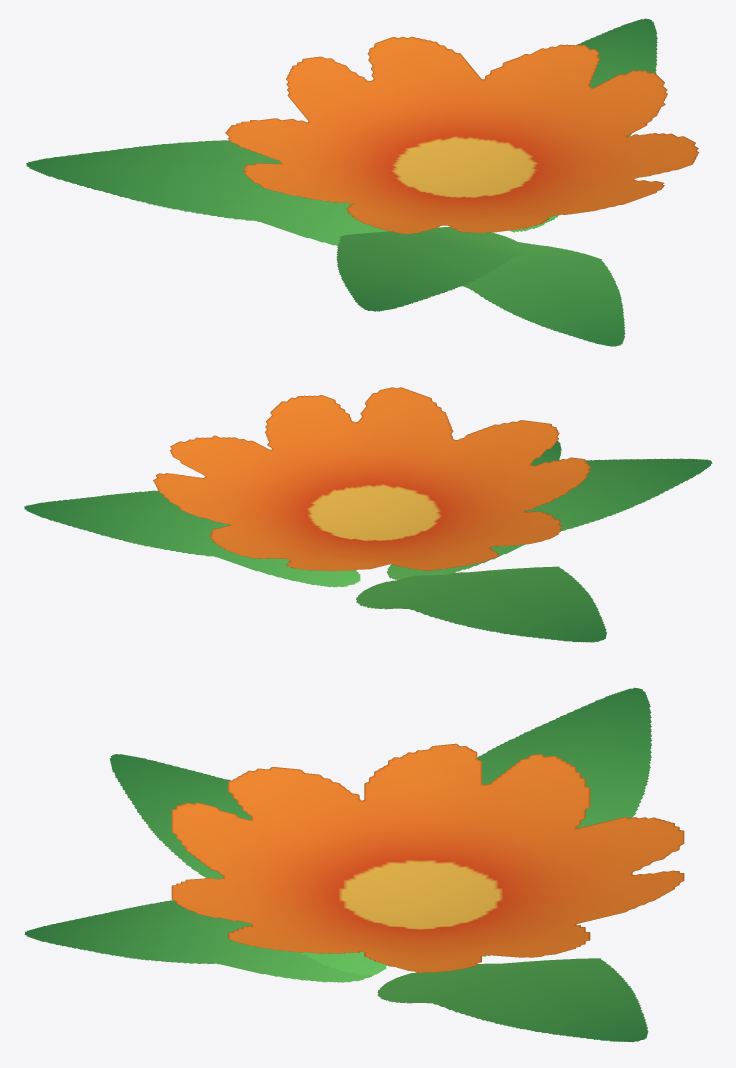
Rendered from orange_flower.glb.
The picture shows the model from 3 angles, top to bottom: view 1: azimuth 30°, elevation 25°; view 2: azimuth 150°, elevation 25°; view 3: azimuth 270°, elevation 25°; orthographic projection. The views are drawn at different scales.
Parts seen in each view (by area): view 1: orange_flower; view 2: orange_flower; view 3: orange_flower.
Boxes of the visible parts, left/top/right/bottom form: orange_flower: left=26, top=18, right=699, bottom=346; orange_flower: left=24, top=387, right=712, bottom=642; orange_flower: left=24, top=687, right=684, bottom=1042.
Bounding box in the file's own units: 1.04 × 0.162 × 0.8787.
2 materials, 2 textured.
